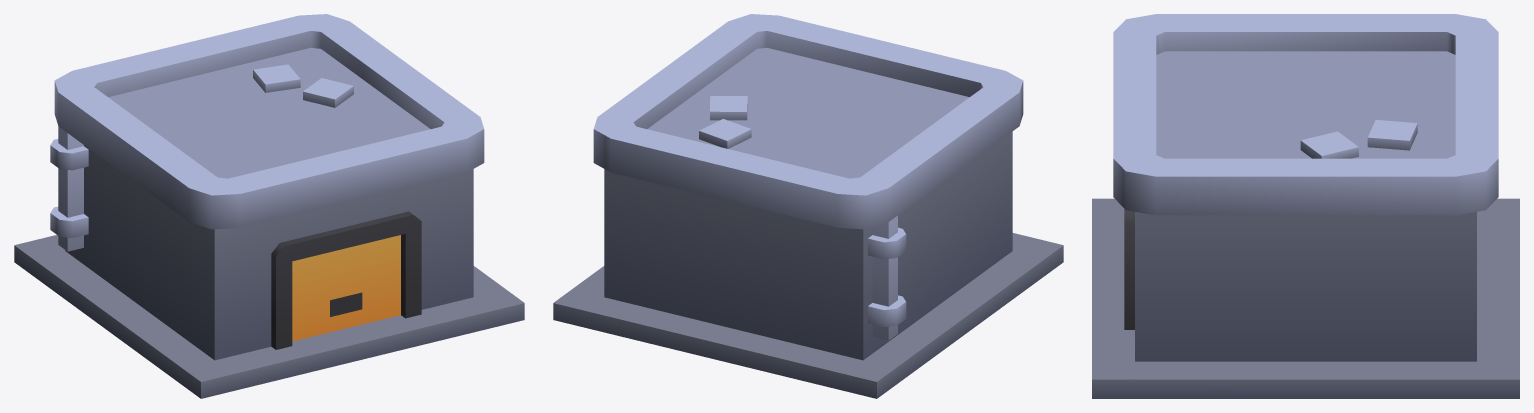
File: ken_building-garage.glb
The picture shows the model from 3 angles, left to right: view 1: azimuth 30°, elevation 25°; view 2: azimuth 150°, elevation 25°; view 3: azimuth 270°, elevation 25°; orthographic projection. The views are drawn at different scales.
Visible parts, largest first — view 1: building-garage; view 2: building-garage; view 3: building-garage.
Part boxes in pixels (x1,y1,x2,y2): building-garage: (14, 14, 524, 398); building-garage: (553, 14, 1063, 398); building-garage: (1092, 14, 1519, 398).
Size of the model in its own units: 1 by 0.55 by 1.
1 material, 1 textured.
